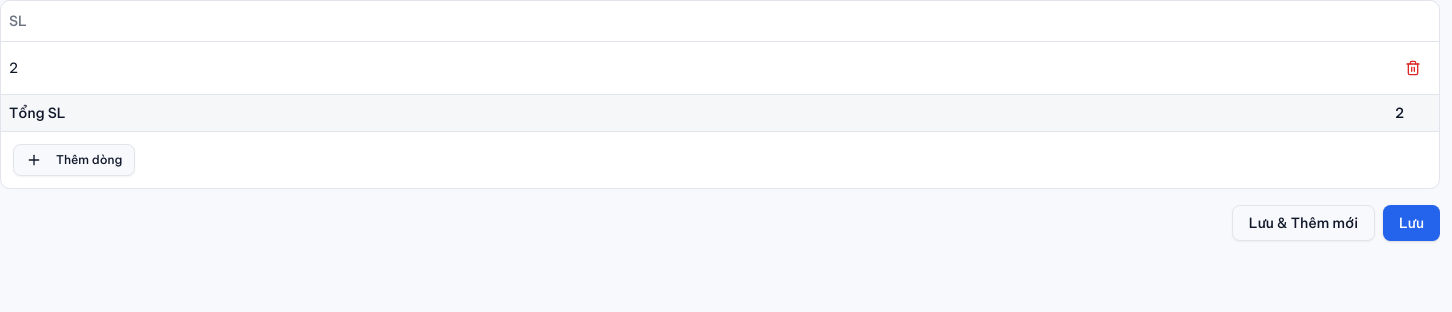
Test: LineItemEditor › removes a row
This screenshot has width=1452, height=312.
What coordinates should you click on to do the following:
click the button "Thêm dòng"
I would click on:
 (74, 160)
Its box is [13, 144, 135, 176].
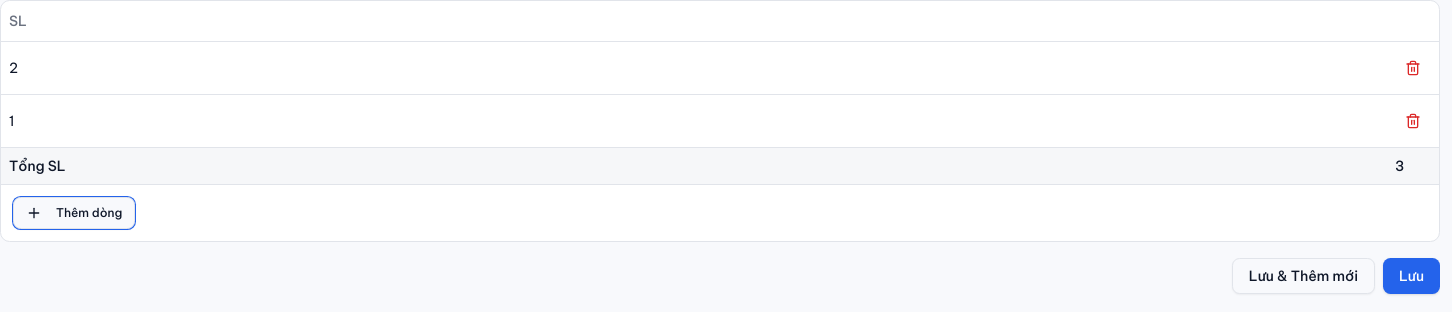
What coordinates should you click on to do the following:
click the 1st button named "Xóa dòng"
I would click on:
 (1413, 68)
Its box is [1395, 50, 1431, 86].
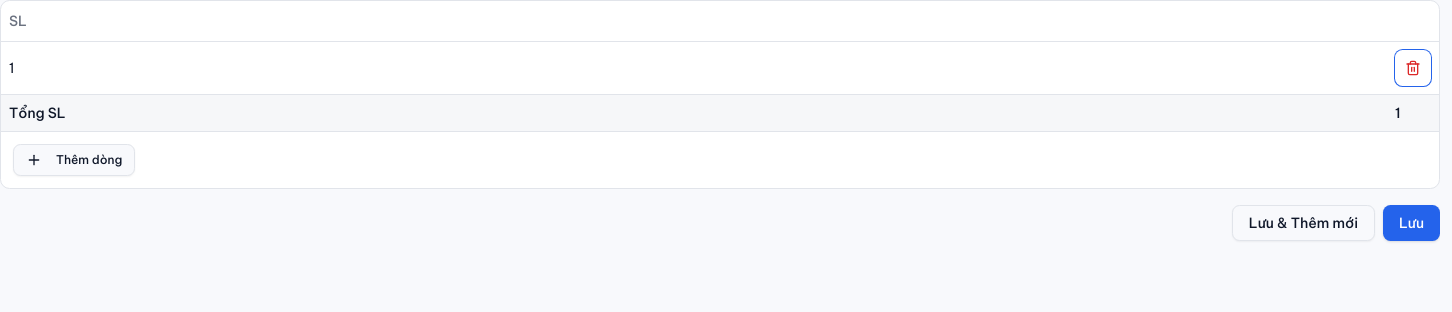
Check: the text with test id "total" reads "1", box [1395, 104, 1401, 122]
